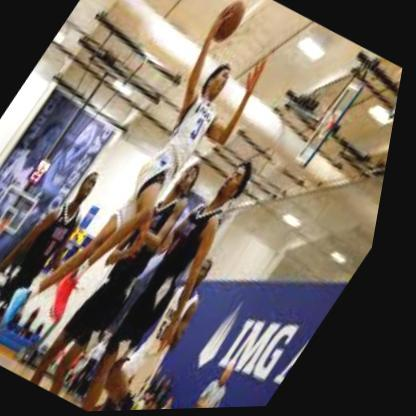basketball: (205, 0, 251, 46)
